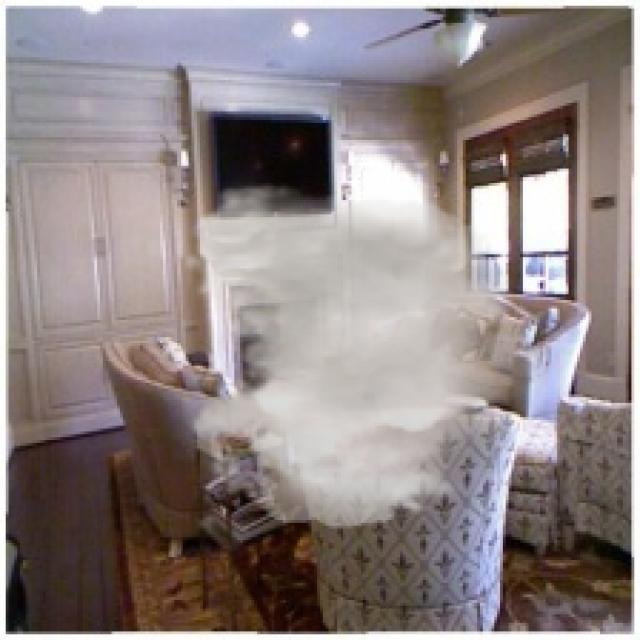Smoke: (180, 182, 563, 528)
